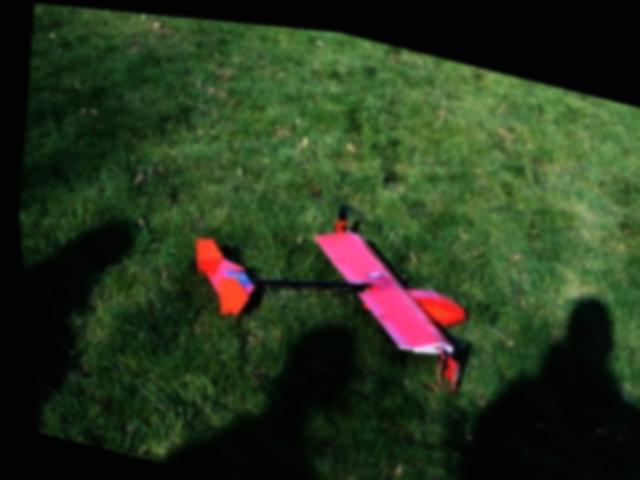uav: (162, 156, 495, 406)
